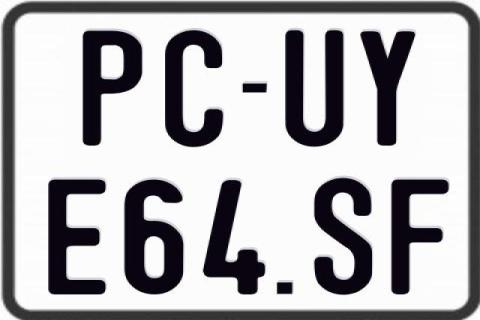0: (202, 180, 267, 294), (122, 180, 181, 300)
C: (165, 29, 227, 151)
E: (48, 177, 112, 293)
F: (390, 180, 452, 300)
P: (80, 30, 141, 146)
S: (311, 177, 375, 295)
U: (284, 29, 345, 147)
Y: (360, 30, 416, 148)
